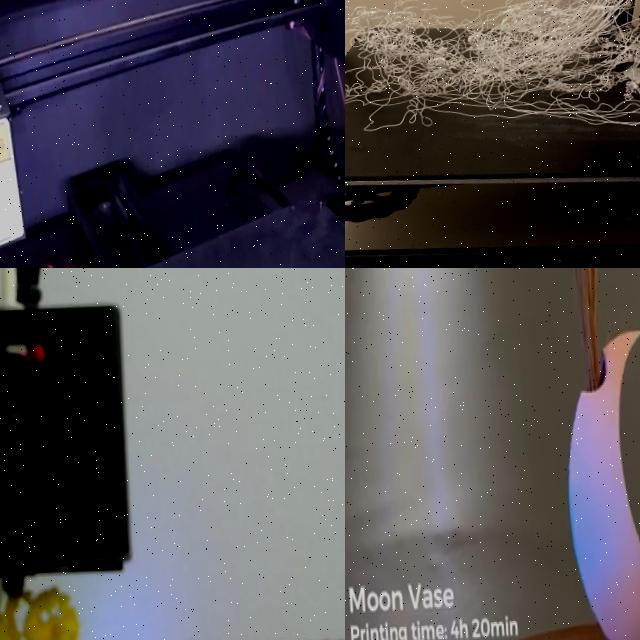spaghetti: (345, 0, 640, 179), (22, 588, 79, 640)
